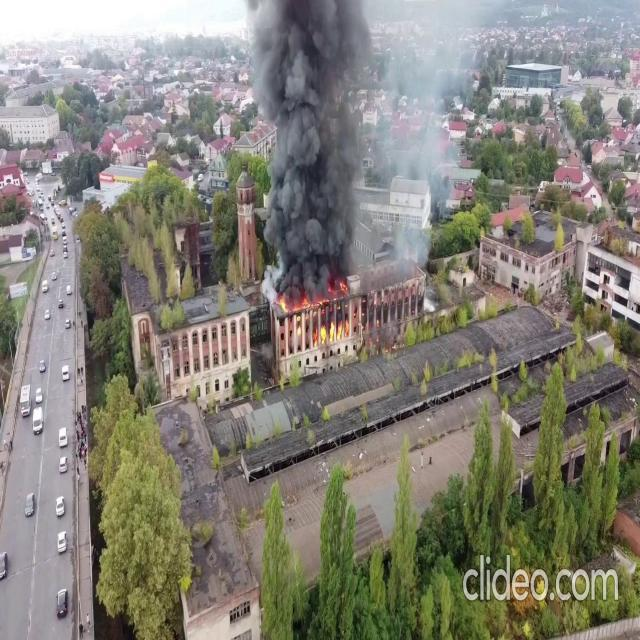Smoke: (252, 0, 382, 302)
